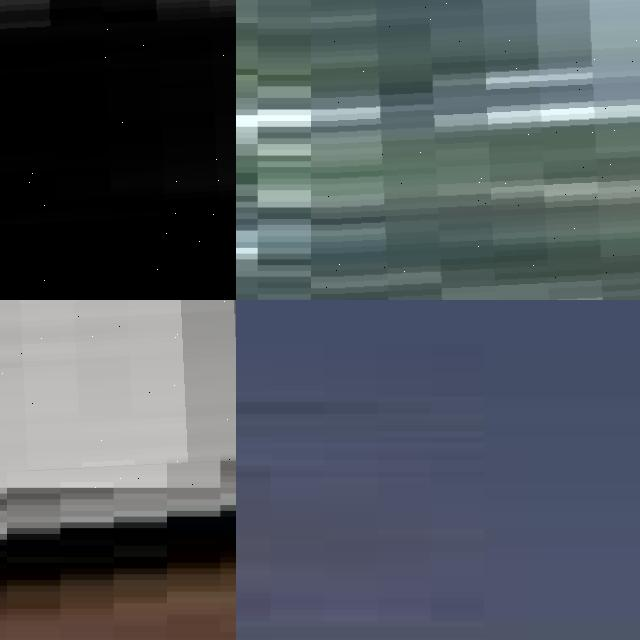street light: (311, 0, 640, 300), (0, 0, 236, 300), (0, 300, 236, 488)
